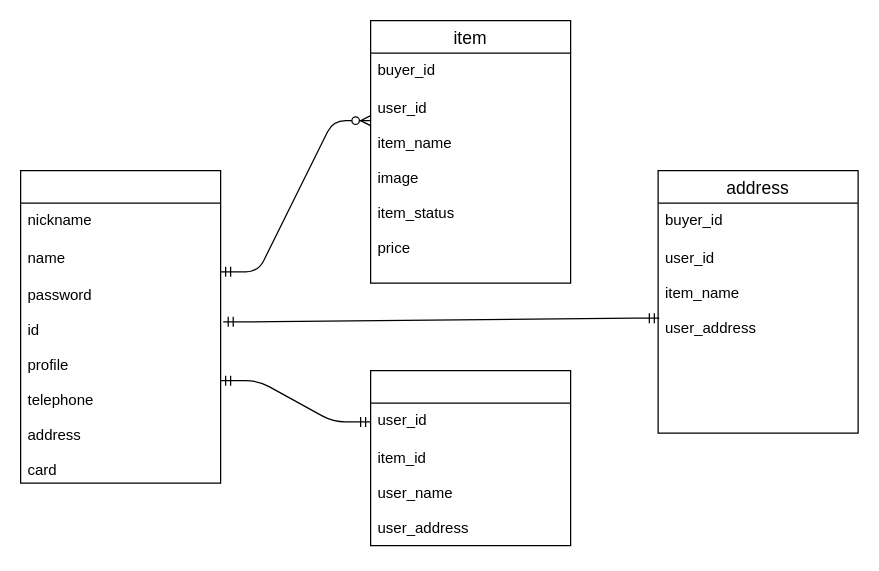
The diagram is 879 pixels wide and 571 high, and some of its shapes have lost their labels. The box of each missing label's shape, as (x1, y1, x2, y2) in pixels:
buy_management: (369, 369, 571, 546)
users: (19, 169, 221, 483)
